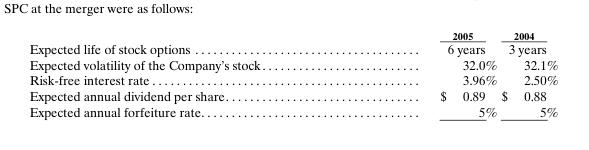table: (28, 28, 557, 118)
table column: (28, 28, 352, 118), (352, 28, 498, 118), (498, 28, 557, 118)
table column header: (28, 28, 557, 56)
table row: (28, 28, 557, 56), (28, 56, 557, 72), (28, 87, 557, 103), (28, 72, 557, 87), (28, 103, 557, 118)
